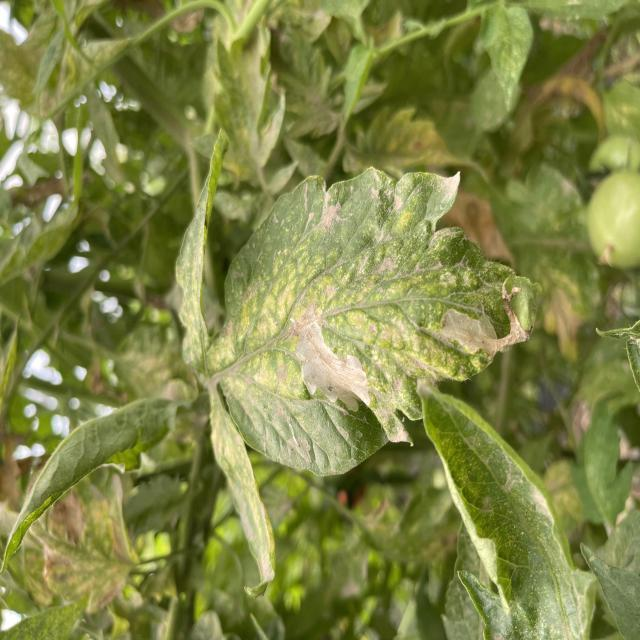Tuta absoluta: (278, 299, 378, 425), (438, 308, 504, 358)
